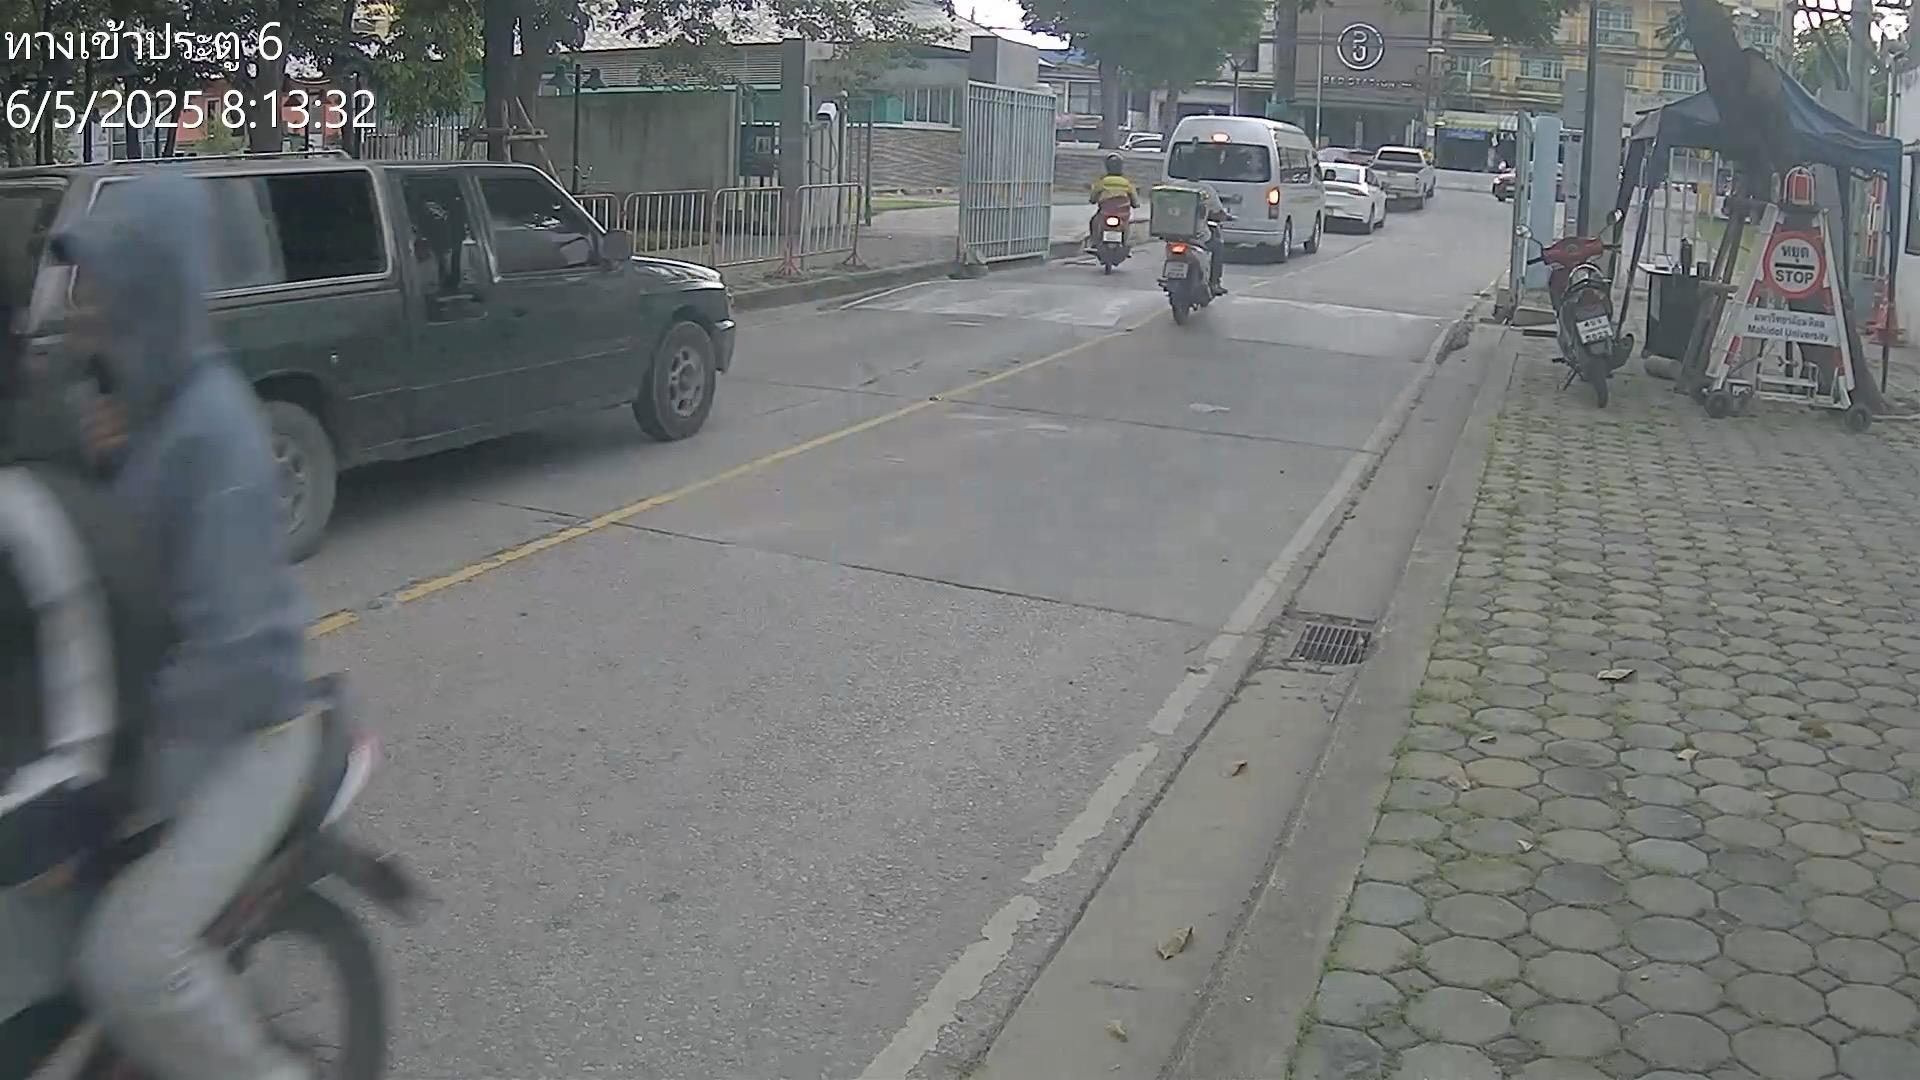With-Helmet: (1104, 152, 1125, 173)
